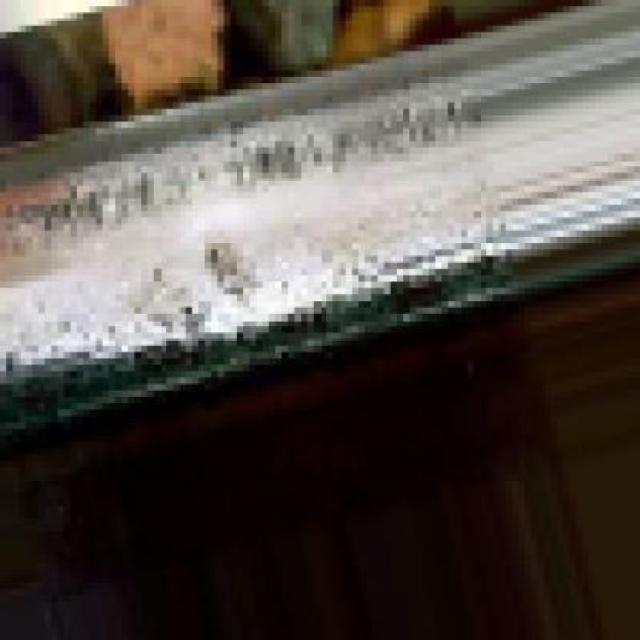defective: (10, 46, 640, 418)
